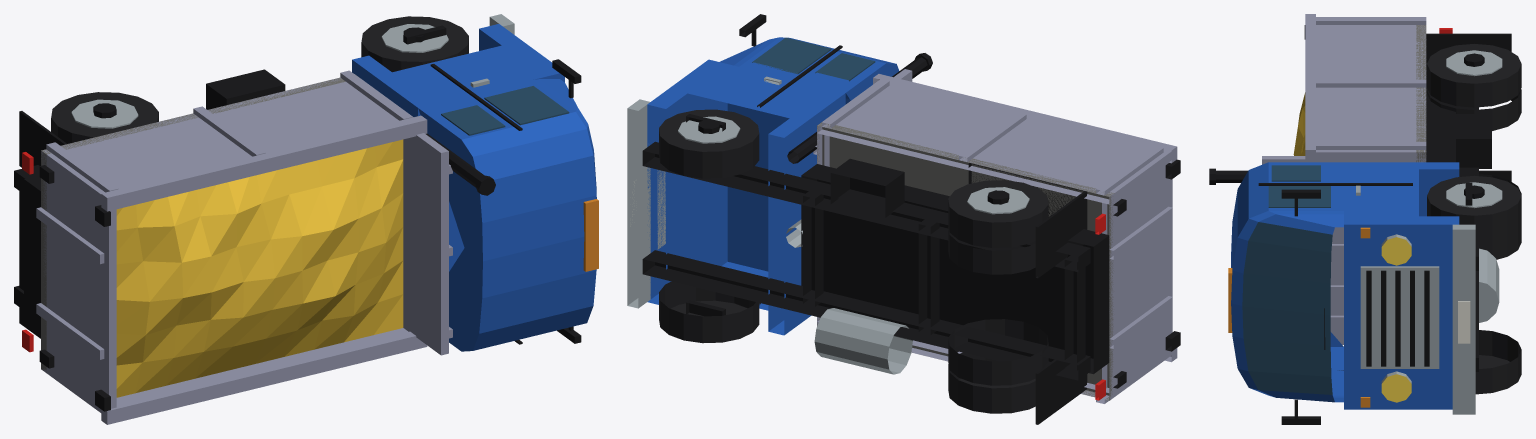
The model's file is loaded.glb.
3 renders of one model, left to right at view 1: azimuth 30°, elevation 25°; view 2: azimuth 150°, elevation 25°; view 3: azimuth 270°, elevation 25°, orthographic. The views are drawn at different scales.
Parts seen in each view (by area): view 1: loaded_load, loaded_bed, loaded_cab_upper, loaded_headboard, loaded_cab_arch, loaded_front1, loaded_rear_out1, loaded_subframe, loaded_cab_back, loaded_battery_box, loaded_side_window1, loaded_cab_front (+4 smaller); view 2: loaded_bed, loaded_subframe, loaded_cab_arch, loaded_chassis-1, loaded_chassis1, loaded_cab_back, loaded_cab_front, loaded_front1, loaded_rear_out1, loaded_fuel_tank, loaded_bumper, loaded_front-1 (+15 smaller); view 3: loaded_cab_upper, loaded_bed, loaded_cab_front, loaded_grille, loaded_rear_out1, loaded_front1, loaded_bumper, loaded_cab_arch, loaded_front-1, loaded_battery_box, loaded_subframe, loaded_cab_back (+22 smaller).
Boxes of the visible parts, bbox=[...] form: loaded_load: bbox=[116, 139, 403, 397]; loaded_bed: bbox=[36, 70, 427, 424]; loaded_cab_upper: bbox=[418, 79, 596, 351]; loaded_headboard: bbox=[414, 133, 448, 355]; loaded_cab_arch: bbox=[392, 45, 544, 271]; loaded_front1: bbox=[361, 16, 468, 72]; loaded_rear_out1: bbox=[51, 92, 158, 143]; loaded_subframe: bbox=[24, 175, 40, 327]; loaded_cab_back: bbox=[352, 55, 434, 116]; loaded_battery_box: bbox=[206, 69, 285, 109]; loaded_side_window1: bbox=[484, 86, 569, 125]; loaded_cab_front: bbox=[479, 24, 564, 82]; loaded_bed: bbox=[817, 74, 1177, 403]; loaded_subframe: bbox=[801, 164, 1109, 374]; loaded_cab_arch: bbox=[687, 64, 829, 310]; loaded_chassis-1: bbox=[642, 250, 1090, 380]; loaded_chassis1: bbox=[642, 141, 1090, 271]; loaded_cab_back: bbox=[768, 89, 845, 335]; loaded_cab_front: bbox=[647, 59, 727, 304]; loaded_front1: bbox=[659, 109, 759, 178]; loaded_rear_out1: bbox=[948, 180, 1048, 247]; loaded_fuel_tank: bbox=[814, 308, 912, 374]; loaded_bumper: bbox=[627, 99, 650, 308]; loaded_front-1: bbox=[659, 281, 759, 343]; loaded_cab_upper: bbox=[1231, 162, 1343, 402]; loaded_bed: bbox=[1305, 14, 1426, 344]; loaded_cab_front: bbox=[1344, 216, 1459, 409]; loaded_grille: bbox=[1360, 266, 1439, 368]; loaded_rear_out1: bbox=[1427, 44, 1521, 107]; loaded_front1: bbox=[1427, 175, 1521, 240]; loaded_bumper: bbox=[1452, 224, 1475, 414]; loaded_cab_arch: bbox=[1344, 169, 1418, 216]; loaded_front-1: bbox=[1475, 330, 1521, 394]; loaded_battery_box: bbox=[1456, 114, 1491, 168]; loaded_subframe: bbox=[1426, 67, 1455, 162]; loaded_cab_back: bbox=[1344, 162, 1459, 216].
Bounding box in the file's own units: 7.6 × 3.9 × 4.75.
